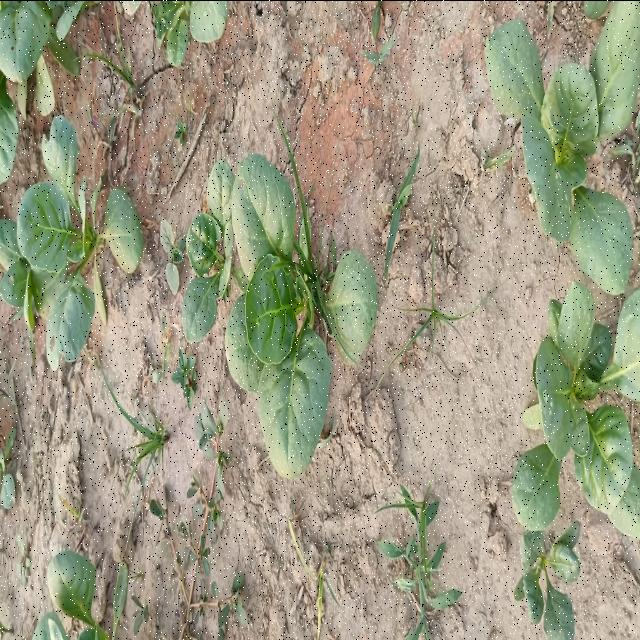plant: (182, 127, 378, 479), (487, 2, 640, 294), (513, 283, 640, 539), (15, 118, 142, 368)
